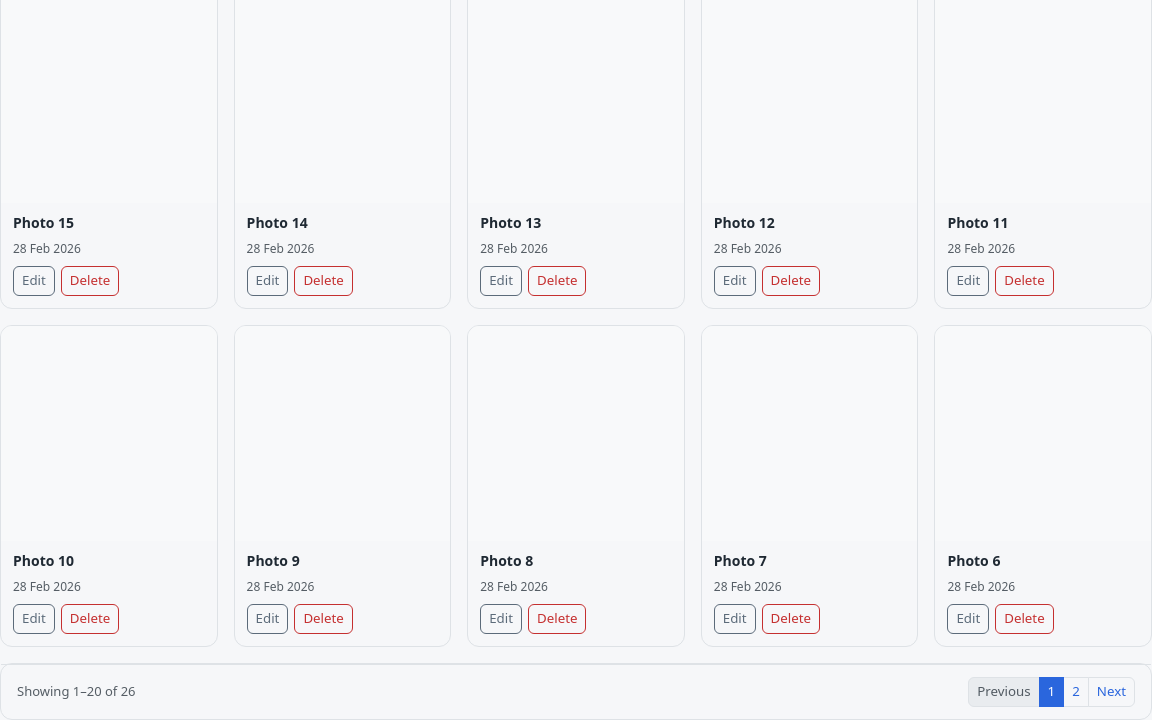
An album with more photos than fit on a page › pages through them instead of rendering the lot
(page scrolled)
Check: the text "Showing 1–20 of 26" is shown, box [17,682,136,702]
Click the button "Next" at x=1111, y=692, box [1088,677,1135,707]
(page scrolled)
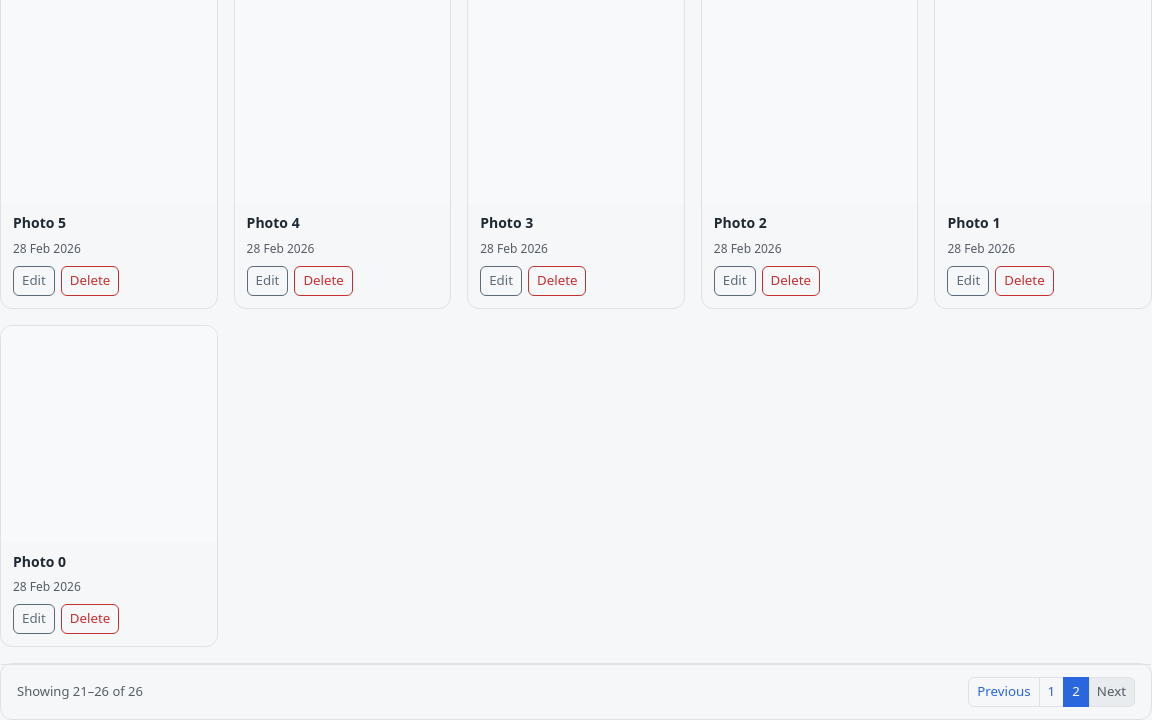
Check: the text "Showing 21–26 of 26" is shown, box [17,682,143,702]
